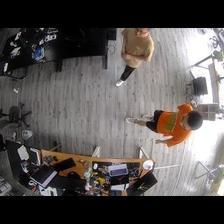normal: (126, 101, 205, 150), (113, 28, 155, 88)
